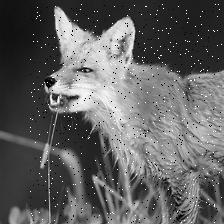fox: (29, 4, 222, 224)
